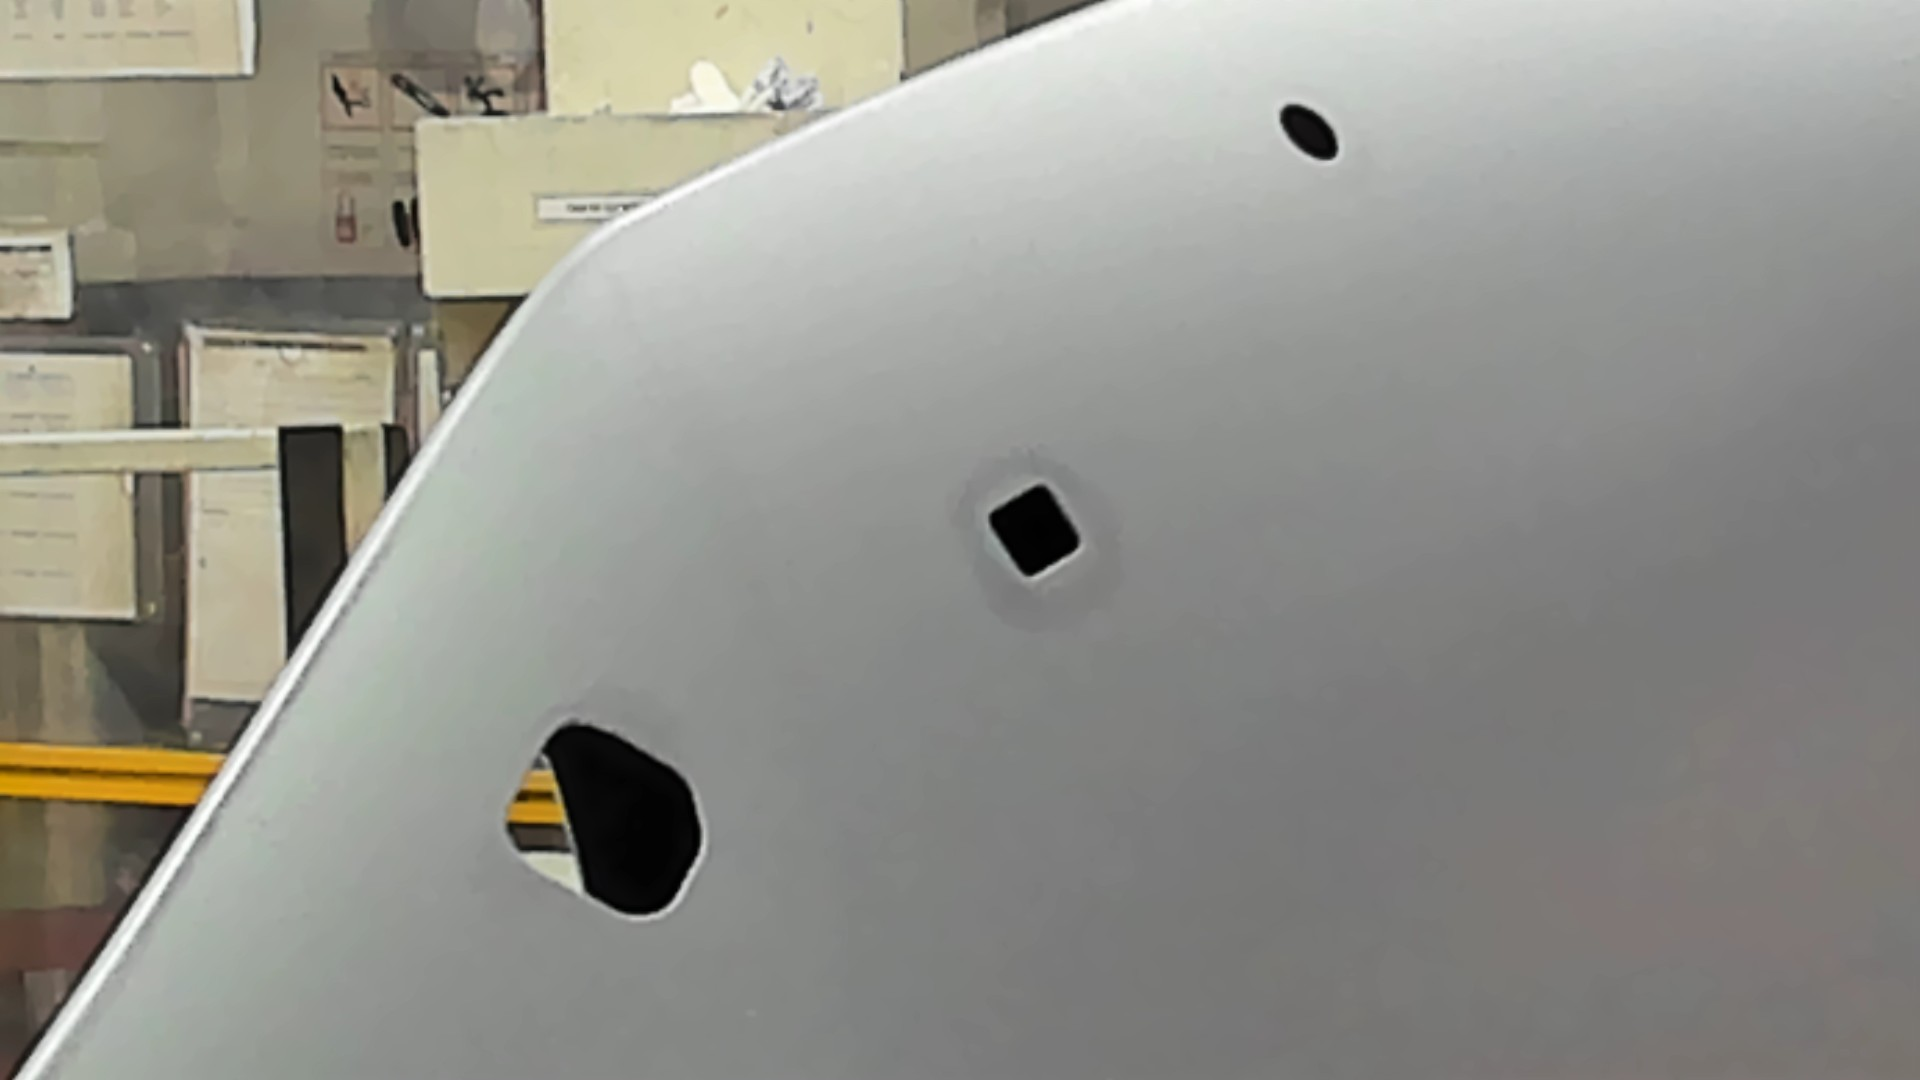chico: (1276, 102, 1344, 162)
grande: (501, 715, 709, 924)
mediano: (982, 483, 1087, 584)
